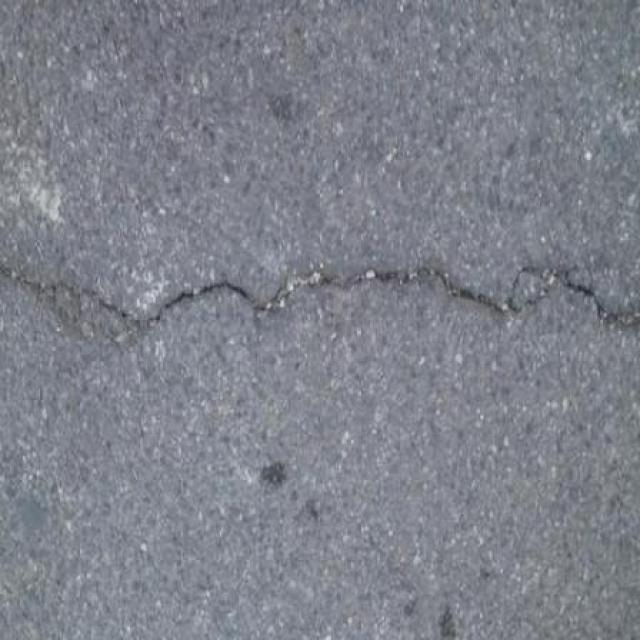horizontal crack: (10, 250, 635, 356)
